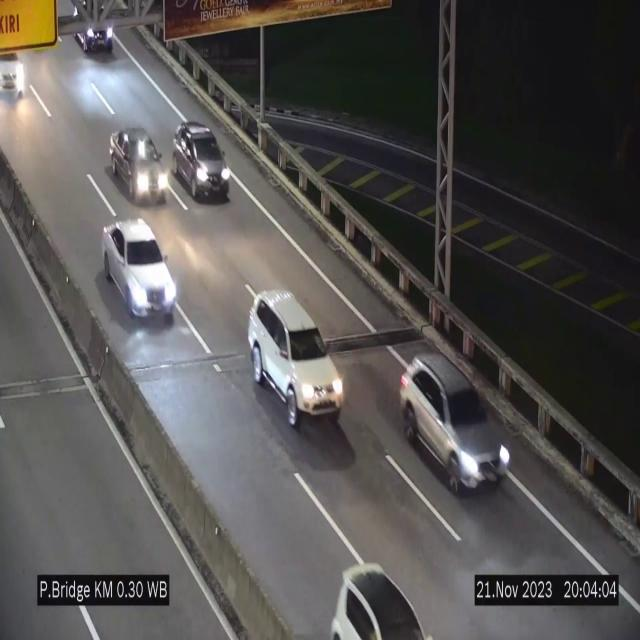Car: (398, 346, 512, 500), (248, 291, 343, 426), (313, 547, 432, 640), (102, 219, 177, 321), (109, 118, 173, 215), (173, 122, 230, 200), (0, 33, 35, 101)
